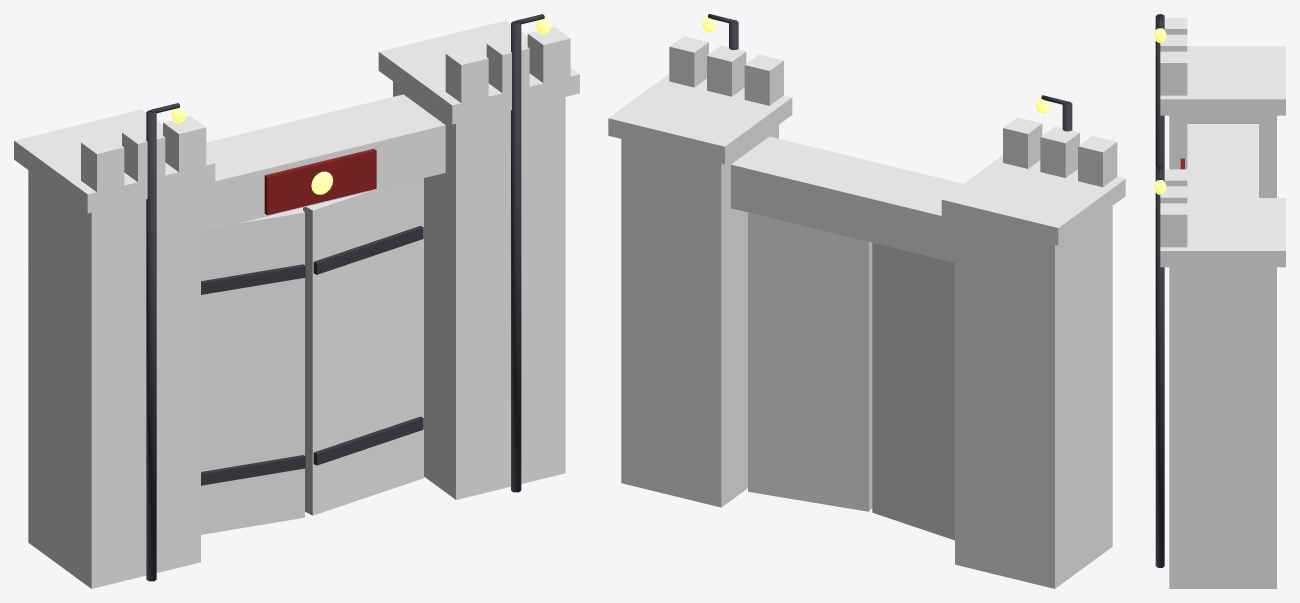
Rendered from brama.glb.
3 views of the same model, side by side, from view 1: azimuth 30°, elevation 25°; view 2: azimuth 150°, elevation 25°; view 3: azimuth 270°, elevation 25° (orthographic). The views are drawn at different scales.
Visible parts, largest first — view 1: brama_1, brama_10, brama_21, brama_20, brama_19, brama_11, brama_2, brama_15, brama_6, brama_26, brama_3, brama_12 (+8 smaller); view 2: brama_1, brama_10, brama_21, brama_20, brama_19, brama_11, brama_2, brama_3, brama_12, brama_5, brama_14, brama_4 (+1 smaller); view 3: brama_10, brama_2, brama_11, brama_19, brama_15, brama_1, brama_5, brama_14, brama_6, brama_13, brama_4, brama_12 (+1 smaller).
Boxes of the visible parts, x1,y1,x2,y2 form: brama_1: [28, 170, 200, 588]; brama_10: [393, 81, 565, 499]; brama_21: [303, 178, 423, 515]; brama_20: [201, 208, 304, 534]; brama_19: [201, 94, 445, 232]; brama_11: [378, 20, 579, 124]; brama_2: [14, 109, 215, 213]; brama_15: [511, 21, 521, 492]; brama_6: [146, 110, 156, 581]; brama_26: [264, 148, 376, 215]; brama_3: [81, 136, 124, 191]; brama_12: [445, 47, 488, 103]; brama_1: [955, 206, 1112, 588]; brama_10: [621, 125, 778, 507]; brama_21: [748, 212, 872, 511]; brama_20: [872, 243, 954, 540]; brama_19: [731, 136, 962, 262]; brama_11: [608, 74, 792, 163]; brama_2: [941, 155, 1125, 245]; brama_3: [1078, 136, 1117, 187]; brama_12: [744, 54, 783, 105]; brama_5: [1003, 117, 1042, 168]; brama_14: [669, 36, 708, 87]; brama_4: [1040, 126, 1079, 177]; brama_10: [1169, 267, 1276, 588]; brama_2: [1160, 46, 1285, 115]; brama_11: [1160, 198, 1285, 267]; brama_19: [1187, 124, 1258, 197]; brama_15: [1155, 166, 1164, 567]; brama_1: [1169, 115, 1276, 197]; brama_5: [1160, 51, 1187, 95]; brama_14: [1160, 203, 1187, 247]; brama_6: [1155, 14, 1164, 167]; brama_13: [1160, 186, 1187, 203]; brama_4: [1160, 34, 1187, 51]; brama_12: [1164, 169, 1187, 186].
Bounding box in the file's own units: 5.4 × 4.92 × 1.47.
